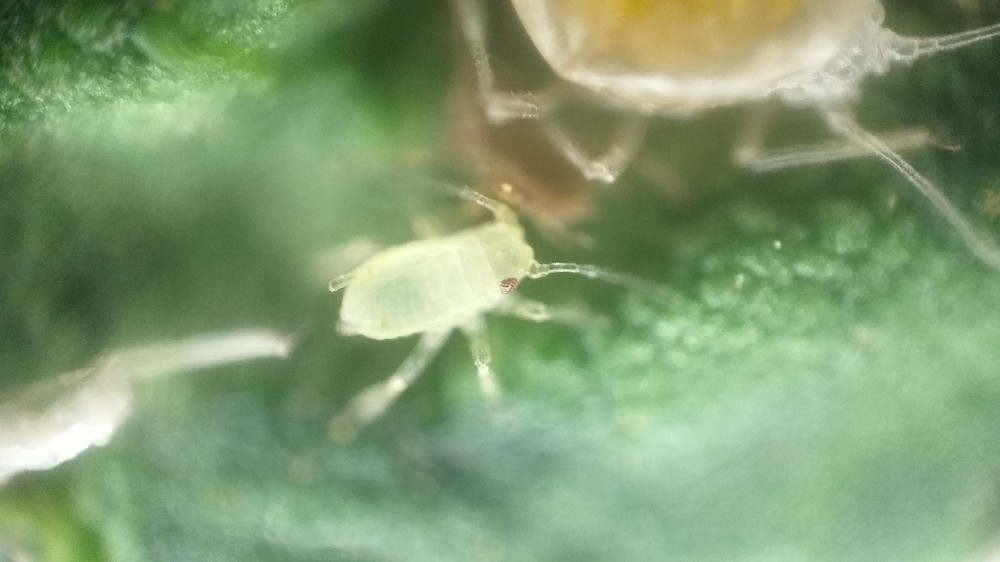Pulgon: (303, 166, 681, 421)
